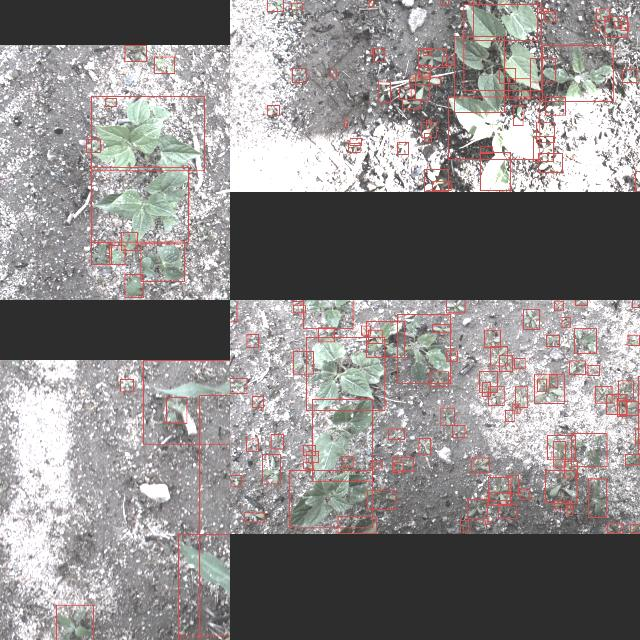crop: (91, 96, 205, 170), (142, 359, 230, 443), (92, 166, 188, 242), (464, 4, 542, 90), (448, 96, 540, 160), (307, 336, 385, 409), (312, 399, 372, 481), (290, 470, 372, 528), (455, 36, 505, 112), (474, 0, 538, 40), (141, 243, 185, 281), (481, 152, 511, 190), (338, 516, 376, 534)
weed: (542, 45, 614, 101), (398, 314, 450, 382), (303, 300, 353, 328), (367, 321, 405, 357), (56, 605, 93, 640), (572, 434, 606, 466), (545, 471, 577, 504), (534, 373, 564, 403), (547, 434, 575, 460), (588, 478, 606, 518), (530, 58, 556, 82), (488, 477, 510, 505), (366, 489, 396, 508), (166, 396, 187, 422), (262, 454, 280, 484), (424, 169, 448, 191), (574, 328, 596, 352), (418, 48, 446, 66), (508, 78, 530, 100), (533, 136, 553, 160), (604, 16, 628, 36), (293, 351, 313, 374), (91, 242, 111, 264), (538, 154, 562, 172), (606, 394, 626, 414), (125, 274, 143, 296), (468, 499, 488, 518), (479, 371, 497, 392), (415, 73, 429, 99), (536, 122, 554, 142), (546, 97, 566, 115), (490, 345, 508, 365), (124, 44, 146, 60), (155, 56, 175, 72), (523, 308, 539, 328), (488, 386, 504, 406), (618, 380, 634, 400), (429, 370, 448, 386), (392, 457, 413, 471), (121, 232, 137, 250), (484, 329, 500, 347), (553, 442, 565, 466), (596, 386, 612, 402), (110, 246, 124, 264), (378, 81, 390, 102), (498, 68, 516, 82), (441, 407, 455, 425), (471, 458, 489, 472), (516, 387, 528, 408), (498, 504, 516, 518), (568, 360, 586, 374), (620, 401, 638, 415), (410, 76, 440, 84), (230, 378, 246, 393), (445, 300, 464, 312), (422, 122, 436, 138), (622, 68, 638, 82), (318, 327, 334, 341), (564, 461, 578, 477), (513, 105, 523, 125), (244, 512, 264, 522), (86, 138, 100, 152), (292, 68, 306, 82), (270, 434, 284, 448), (368, 329, 382, 343), (419, 64, 431, 80), (500, 355, 512, 371), (266, 0, 283, 11), (508, 475, 518, 493), (617, 398, 627, 416), (388, 428, 404, 439), (418, 438, 429, 454), (489, 492, 511, 500), (596, 8, 610, 20), (120, 378, 134, 390), (246, 438, 258, 452), (546, 334, 560, 346), (432, 182, 452, 190), (624, 454, 640, 464), (607, 523, 623, 533), (399, 87, 411, 99), (402, 100, 420, 108), (252, 395, 264, 407), (230, 474, 242, 486), (247, 334, 259, 346), (433, 324, 451, 332), (453, 425, 465, 437), (374, 48, 384, 62), (306, 451, 318, 462), (554, 500, 570, 508), (267, 105, 279, 115), (348, 142, 360, 152), (398, 142, 408, 154), (544, 11, 556, 21), (303, 445, 315, 455), (514, 358, 526, 368), (588, 365, 600, 375), (548, 374, 558, 386), (482, 382, 490, 396), (538, 378, 546, 392), (520, 488, 530, 499), (629, 524, 640, 534), (635, 171, 640, 191), (343, 456, 353, 466), (447, 350, 457, 360), (554, 300, 564, 310), (628, 334, 638, 344), (350, 137, 362, 145), (480, 146, 492, 154), (293, 304, 305, 312), (460, 520, 468, 532), (393, 462, 402, 472), (371, 460, 382, 468), (106, 98, 116, 106), (292, 2, 302, 10), (443, 56, 453, 64), (424, 132, 432, 142), (506, 410, 514, 420), (562, 317, 570, 327), (621, 22, 629, 31), (362, 326, 371, 334), (512, 403, 520, 412), (635, 429, 640, 442), (304, 462, 314, 468), (567, 505, 573, 515), (575, 300, 587, 305), (330, 69, 336, 77), (614, 21, 622, 27), (424, 49, 431, 55), (469, 0, 479, 4), (368, 0, 374, 6), (440, 0, 448, 4), (426, 120, 430, 128), (344, 120, 348, 126), (594, 26, 600, 30), (485, 521, 491, 525), (544, 8, 548, 12), (371, 50, 373, 54)
